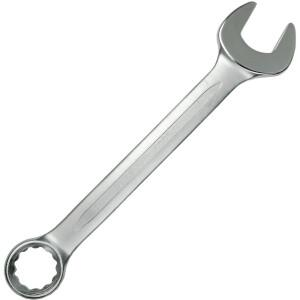Spanners: (0, 2, 300, 300)
